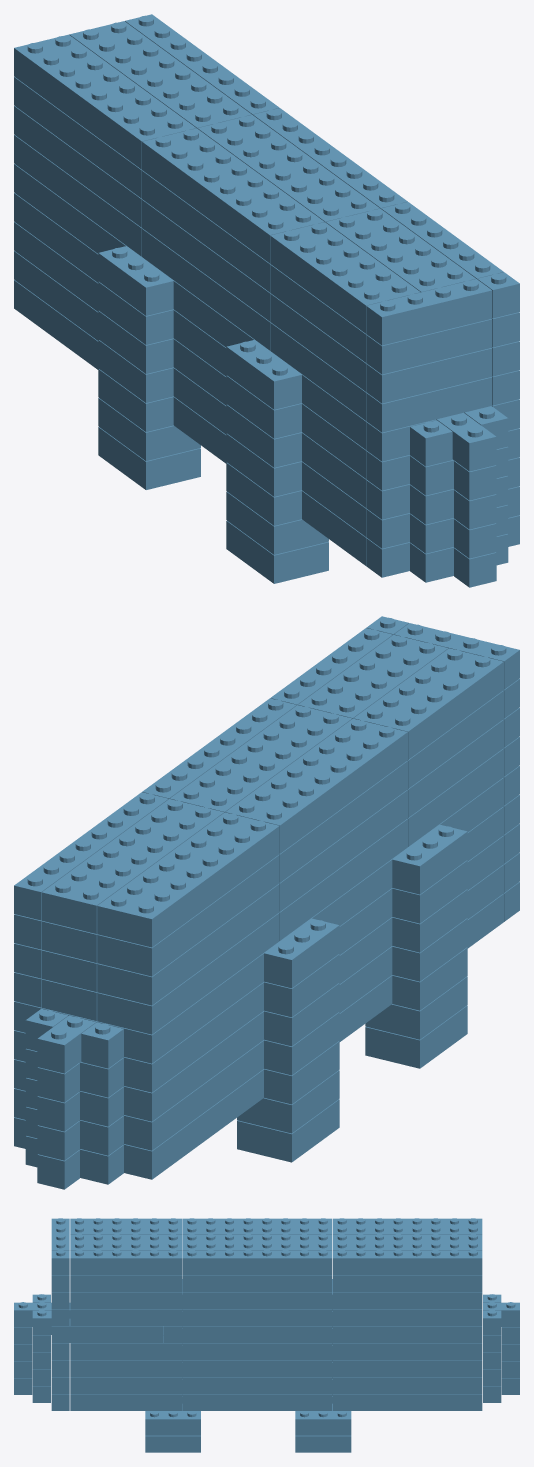
File: 244_train_L4.glb
The picture shows the model from 3 angles, top to bottom: view 1: azimuth 30°, elevation 25°; view 2: azimuth 150°, elevation 25°; view 3: azimuth 270°, elevation 25°; orthographic projection. The views are drawn at different scales.
Bounding box in the file's own units: 6.98 × 11.13 × 26.98.
